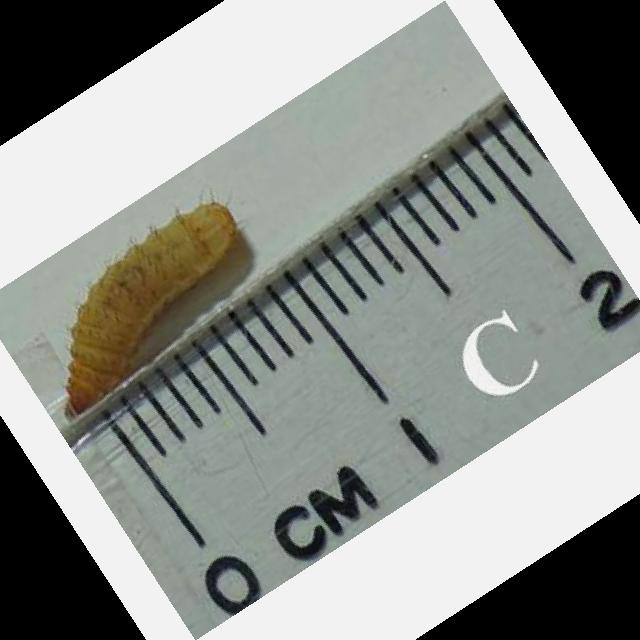Maggot: (43, 201, 243, 415)
